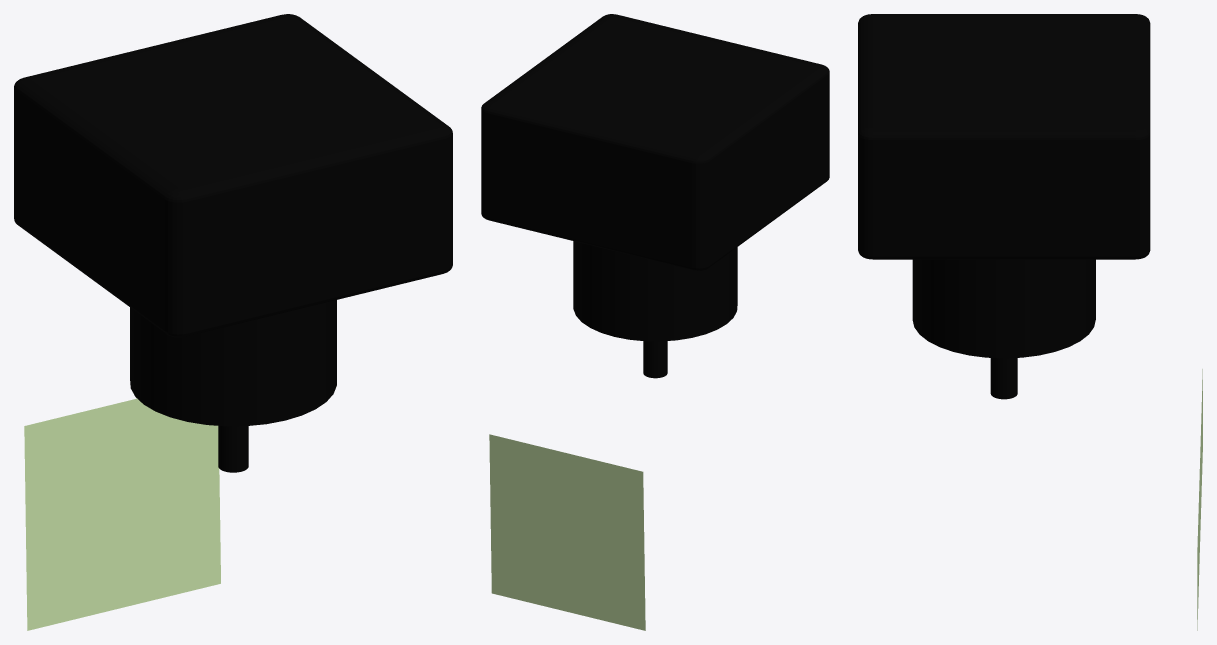
The model's file is glass-study.glb.
3 renders of one model, left to right at view 1: azimuth 30°, elevation 25°; view 2: azimuth 150°, elevation 25°; view 3: azimuth 270°, elevation 25°, orthographic. The views are drawn at different scales.
Parts seen in each view (by area): view 1: Cube.001, Plane, Cylinder, Cylinder.001; view 2: Cube.001, Plane, Cylinder, Cylinder.001; view 3: Cube.001, Cylinder, Cylinder.001, Plane.
Part boxes in pixels (x1,y1,x2,y2): Cube.001: (14,14,452,337); Plane: (24,398,220,630); Cylinder: (130,300,336,426); Cylinder.001: (218,426,248,472); Cube.001: (481,14,829,270); Plane: (489,434,645,630); Cylinder: (573,241,737,341); Cylinder.001: (643,341,667,378); Cube.001: (858,14,1150,259); Cylinder: (912,259,1095,358); Cylinder.001: (990,358,1017,399); Plane: (1197,369,1202,630).
Size of what is drawn, in the model's own units: 1.45 by 2.84 by 1.72.
